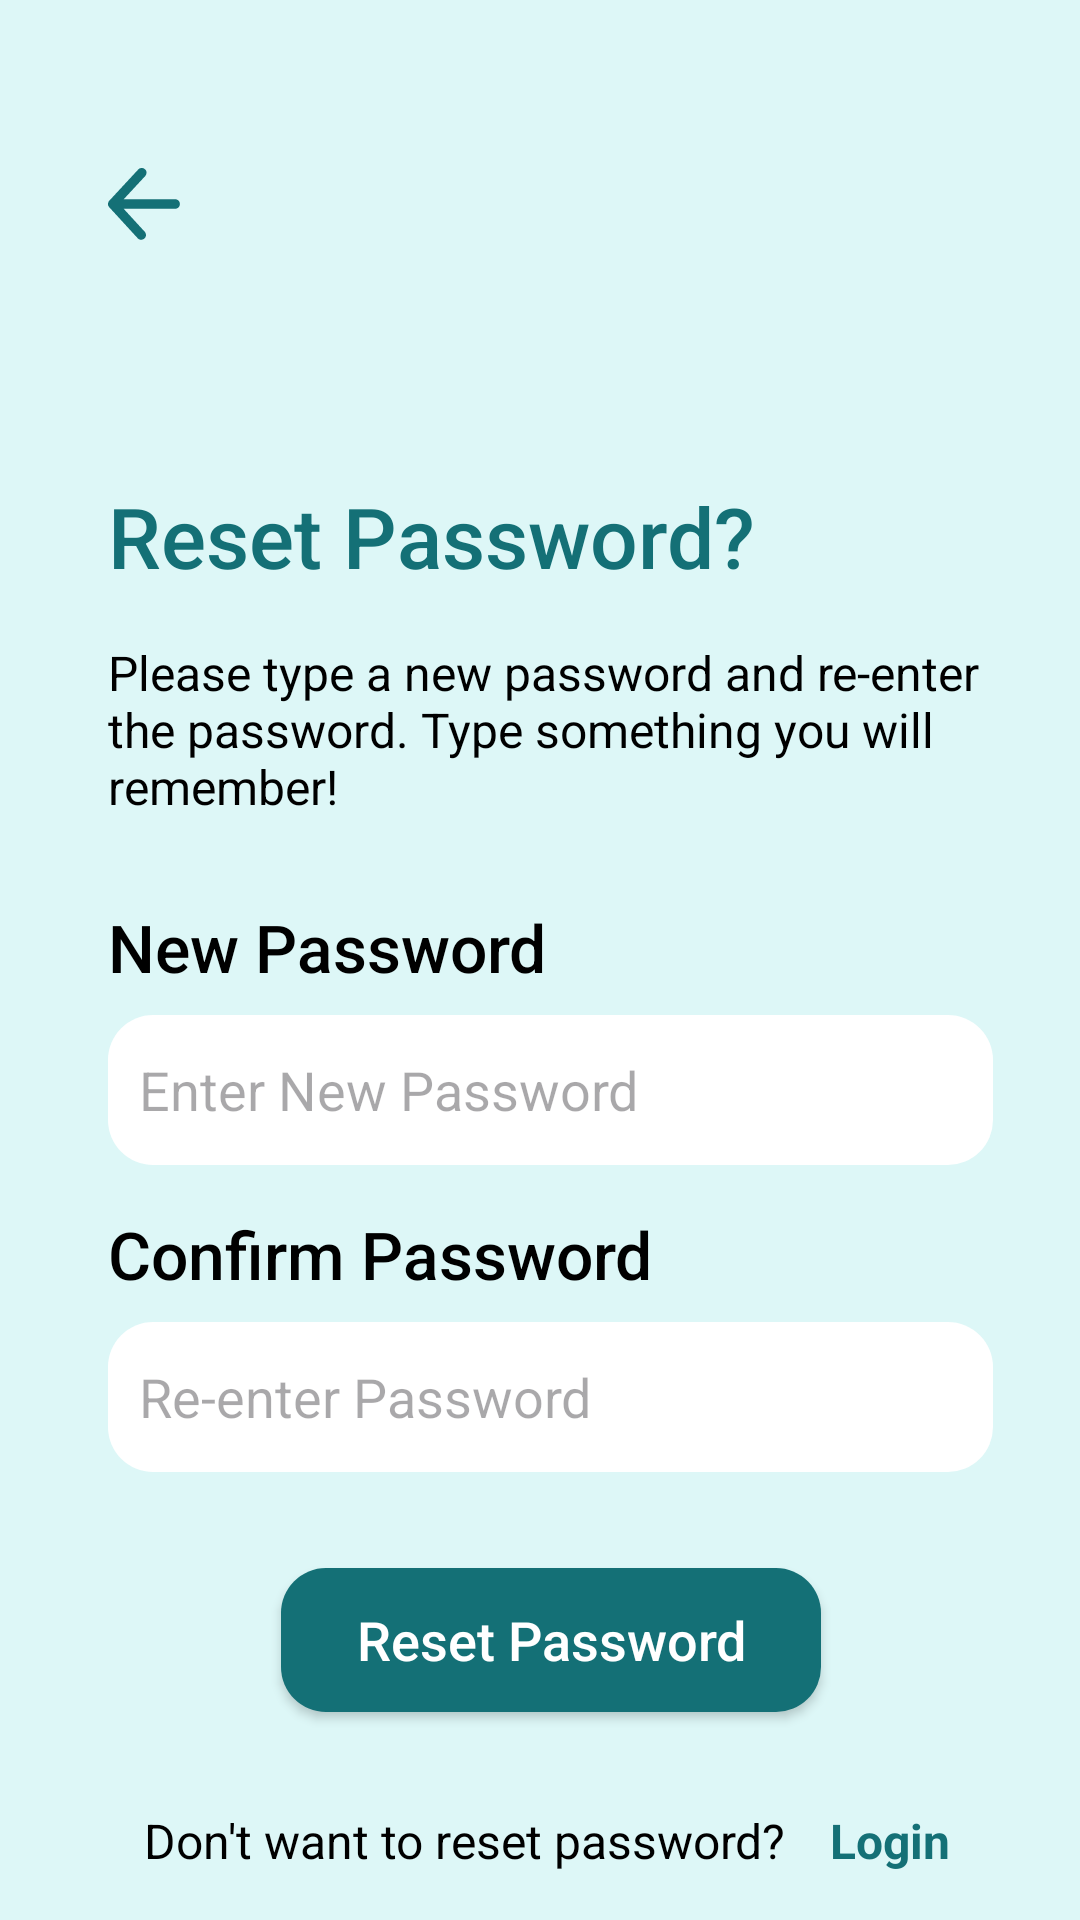

Point at icon controls on the screen. Image size 1080×1920, points as (x,y).
back: (144,204)
